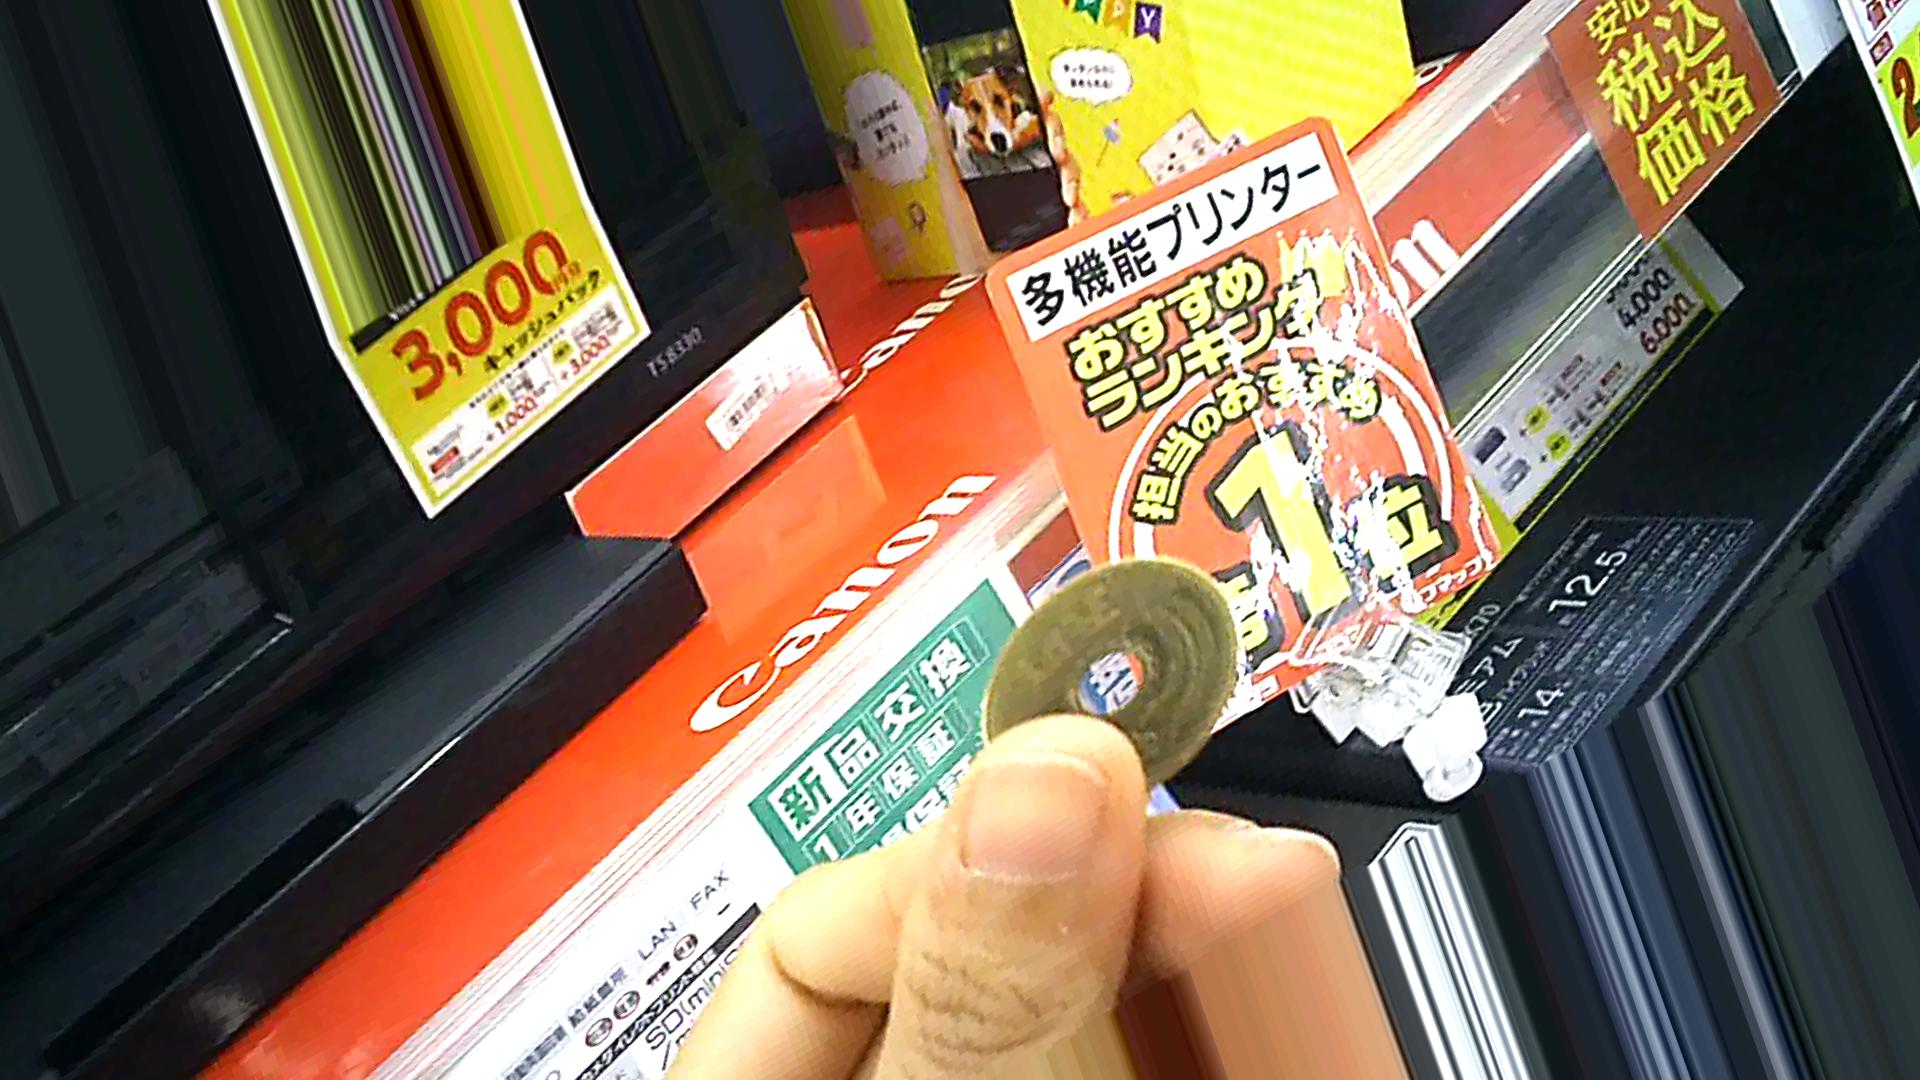5 Yen: (992, 568, 1246, 800)
